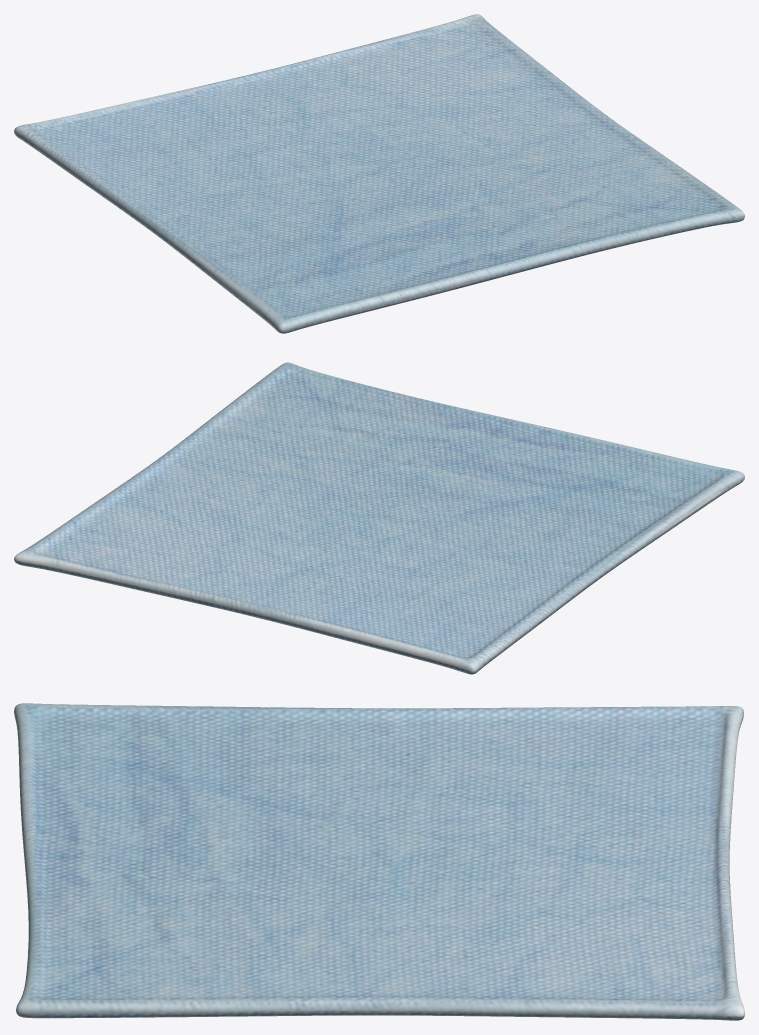
The model's file is 擦拭布.fbx.
3 renders of one model, top to bottom at view 1: azimuth 30°, elevation 25°; view 2: azimuth 150°, elevation 25°; view 3: azimuth 270°, elevation 25°, orthographic. The views are drawn at different scales.
Parts seen in each view (by area): view 1: 擦拭布; view 2: 擦拭布; view 3: 擦拭布.
Boxes of the visible parts, x1,y1,x2,y2 form: 擦拭布: (14,14,744,333); 擦拭布: (14,362,744,674); 擦拭布: (14,703,744,1020).
Size of the model in its own units: 231 by 5.61 by 231.
Materials: 1 (1 with a texture image).
